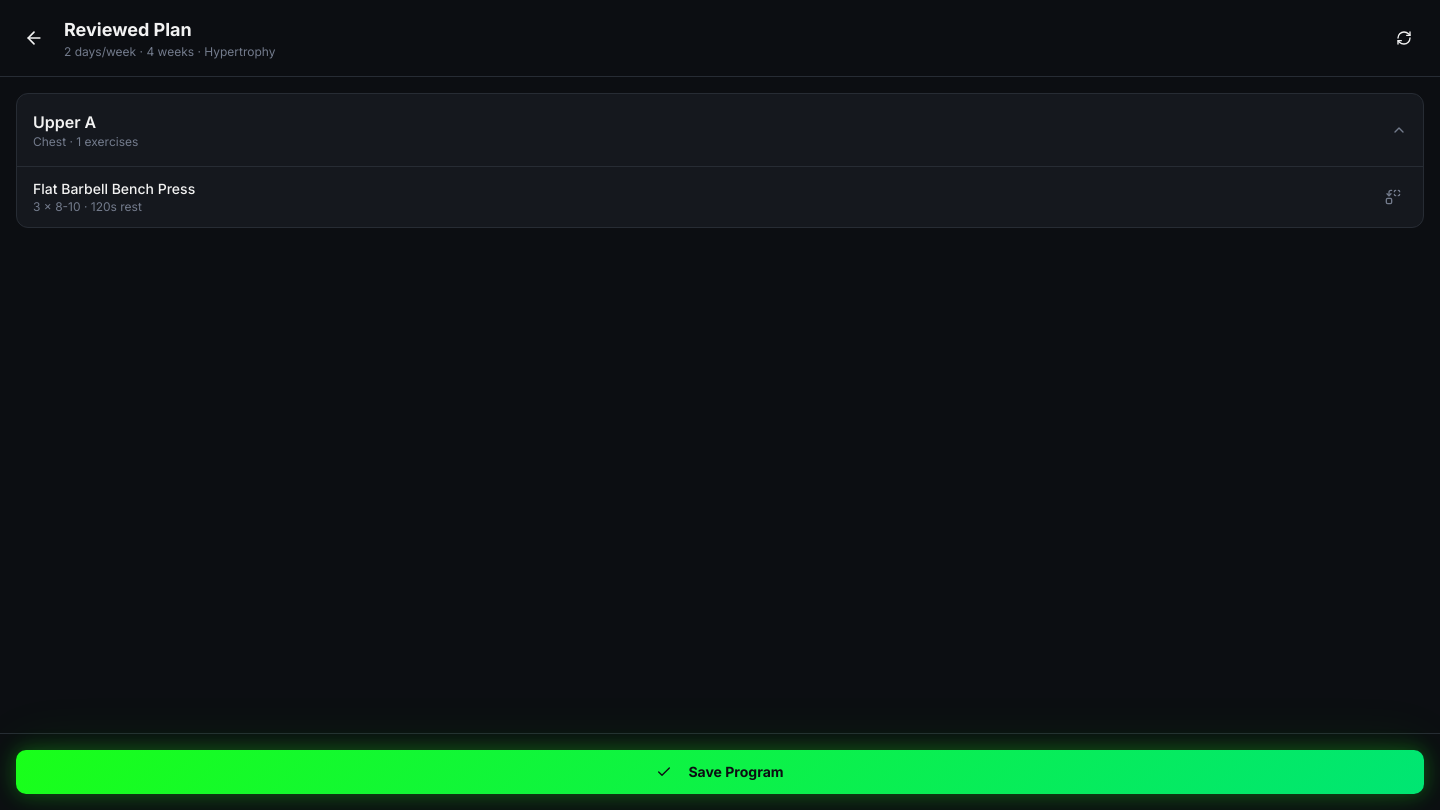
it: regenerating a reviewed AI program › runs the generation once confirmed
Click the button named "Regenerate program".
click(1404, 38)  # box left=1384, top=18, right=1424, bottom=58
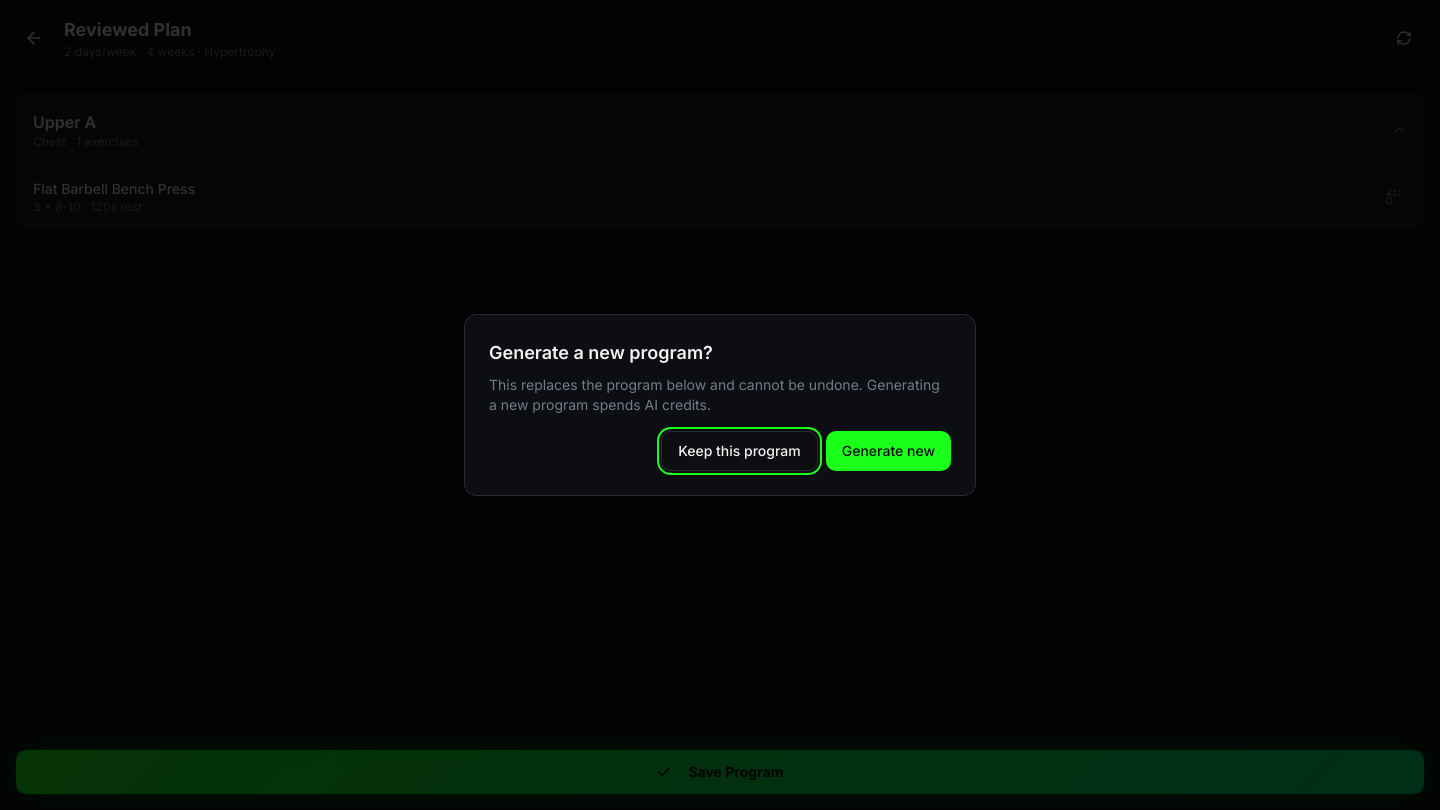
Click the button "Generate new".
click(888, 451)  # box left=826, top=431, right=951, bottom=471
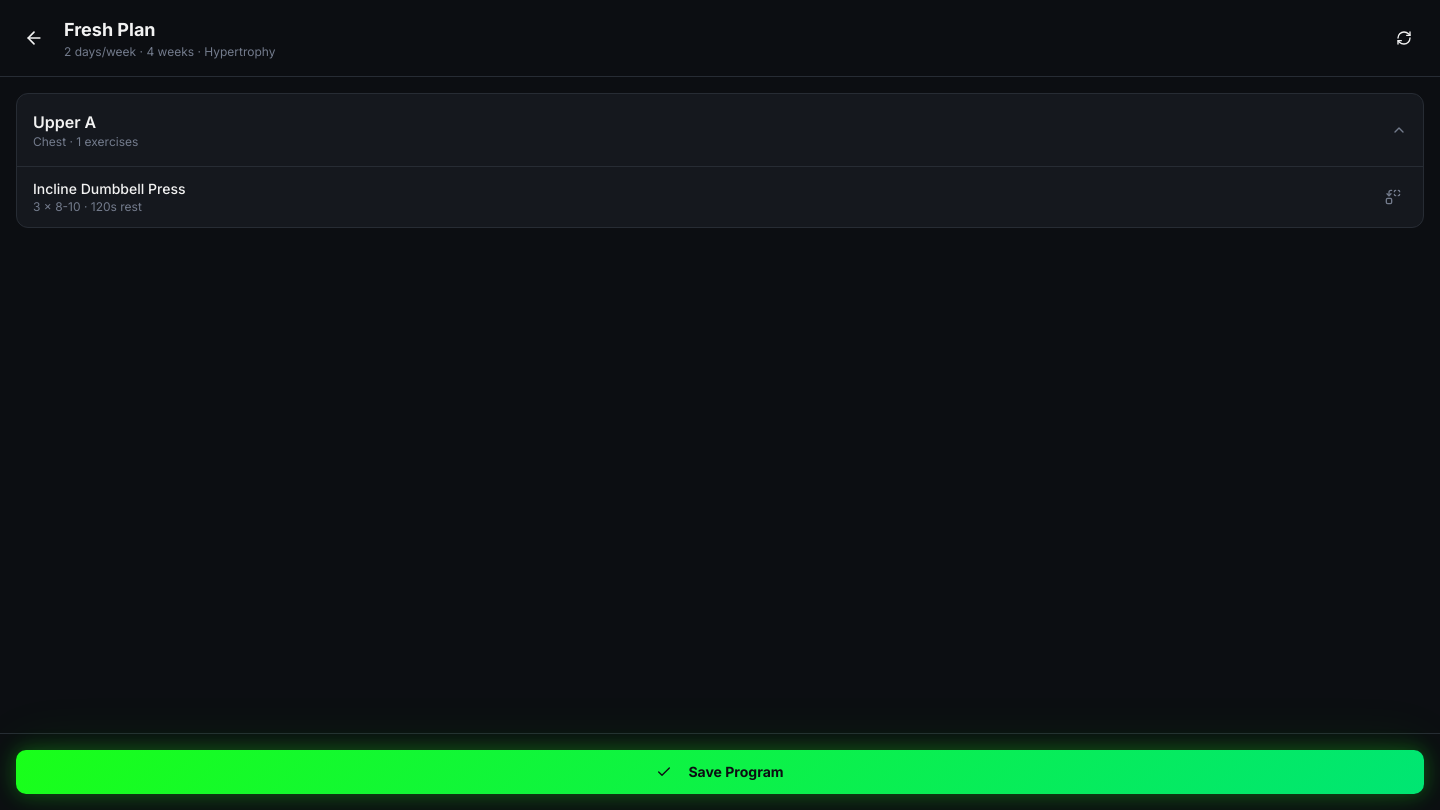
Expected: the heading "Fresh Plan" is shown, left=64, top=19, right=156, bottom=40
